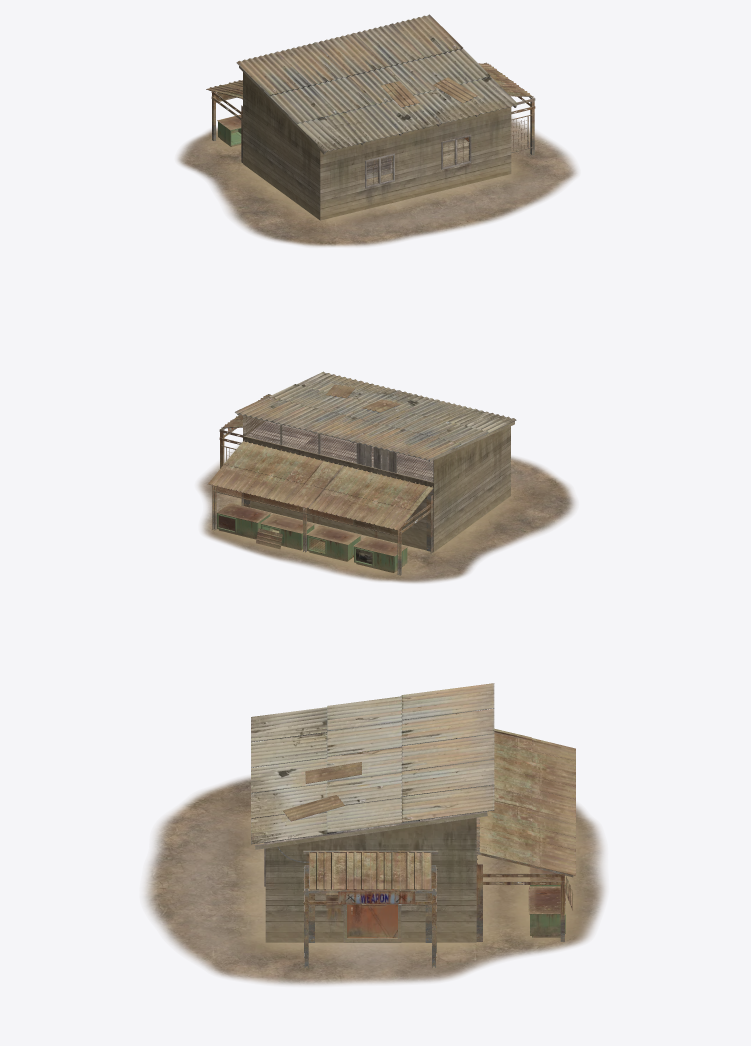
File: bShopOld.glb
The picture shows the model from 3 angles, top to bottom: view 1: azimuth 30°, elevation 25°; view 2: azimuth 150°, elevation 25°; view 3: azimuth 270°, elevation 25°; orthographic projection. The views are drawn at different scales.
Visible parts, largest first — view 1: Roof_Roof_0, Plane_Ground_0, Wall_Wall_0, Woods_Wood_0, Irons_Irons_0, Environments_Environments_0; view 2: Roof_Roof_0, Plane_Ground_0, Wall_Wall_0, Environments_Environments_0, Woods_Wood_0, Tiles_Tiles_0, Irons_Irons_0; view 3: Roof_Roof_0, Plane_Ground_0, Wall_Wall_0, Environments_Environments_0, Irons_Irons_0, Woods_Wood_0.
Boxes of the visible parts, bbox=[...] form: Roof_Roof_0: bbox=[206, 14, 531, 152]; Plane_Ground_0: bbox=[177, 117, 577, 246]; Wall_Wall_0: bbox=[243, 72, 511, 220]; Woods_Wood_0: bbox=[239, 66, 516, 188]; Irons_Irons_0: bbox=[209, 62, 535, 162]; Environments_Environments_0: bbox=[216, 93, 527, 184]; Roof_Roof_0: bbox=[208, 371, 516, 549]; Plane_Ground_0: bbox=[197, 447, 575, 583]; Wall_Wall_0: bbox=[243, 415, 510, 552]; Environments_Environments_0: bbox=[216, 427, 407, 572]; Woods_Wood_0: bbox=[237, 413, 514, 481]; Tiles_Tiles_0: bbox=[216, 416, 432, 553]; Irons_Irons_0: bbox=[209, 394, 433, 575]; Roof_Roof_0: bbox=[251, 683, 575, 910]; Plane_Ground_0: bbox=[144, 776, 605, 985]; Wall_Wall_0: bbox=[265, 711, 476, 942]; Environments_Environments_0: bbox=[277, 846, 565, 938]; Irons_Irons_0: bbox=[303, 736, 573, 967]; Woods_Wood_0: bbox=[254, 711, 487, 942].
Bounding box in the file's own units: 48 × 9.87 × 48.
Materials: 8 (8 with a texture image).
